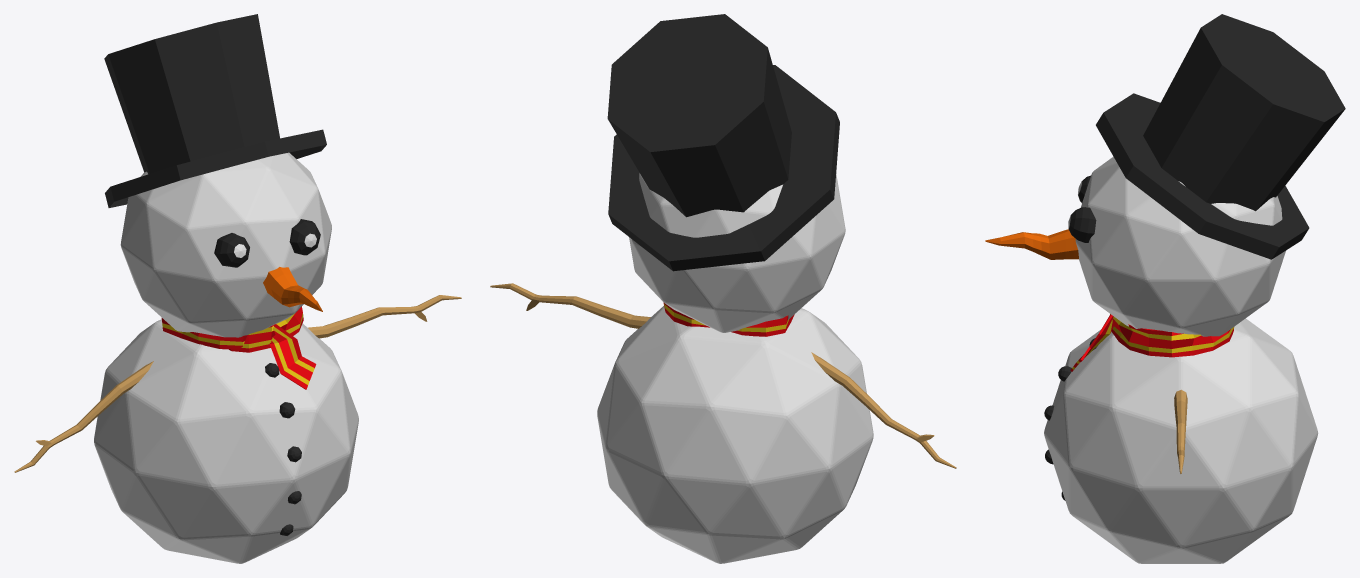
The model's file is snowman.gltf.
The picture shows the model from 3 angles, left to right: view 1: azimuth 30°, elevation 25°; view 2: azimuth 150°, elevation 25°; view 3: azimuth 270°, elevation 25°; orthographic projection. The views are drawn at different scales.
Parts seen in each view (by area): view 1: Icosphere.001, Icosphere, hat, muffler, Cylinder.003, Cylinder.002, Cylinder.004, eye, eyes, buttons; view 2: Icosphere.001, hat, Icosphere, Cylinder.003, Cylinder.002, muffler; view 3: Icosphere.001, hat, Icosphere, muffler, Cylinder.004, Cylinder.002, eyes.
Boxes of the visible parts, left/top/right/bottom form: Icosphere.001: left=94, top=319, right=358, bottom=563; Icosphere: left=120, top=152, right=331, bottom=337; hat: left=104, top=14, right=326, bottom=207; muffler: left=161, top=306, right=316, bottom=389; Cylinder.003: left=14, top=361, right=153, bottom=472; Cylinder.002: left=308, top=295, right=461, bottom=338; Cylinder.004: left=263, top=267, right=322, bottom=311; eye: left=214, top=233, right=249, bottom=267; eyes: left=289, top=219, right=320, bottom=255; buttons: left=265, top=363, right=301, bottom=535; Icosphere.001: left=597, top=306, right=873, bottom=563; hat: left=607, top=14, right=839, bottom=271; Icosphere: left=629, top=173, right=845, bottom=332; Cylinder.003: left=811, top=352, right=956, bottom=468; Cylinder.002: left=490, top=283, right=650, bottom=328; muffler: left=663, top=302, right=794, bottom=336; Icosphere.001: left=1044, top=318, right=1318, bottom=563; hat: left=1096, top=14, right=1345, bottom=259; Icosphere: left=1075, top=156, right=1285, bottom=336; muffler: left=1070, top=314, right=1234, bottom=371; Cylinder.004: left=985, top=229, right=1078, bottom=259; Cylinder.002: left=1174, top=389, right=1187, bottom=473; eyes: left=1068, top=207, right=1096, bottom=242.
Bounding box in the file's own units: 2.16 × 2.42 × 1.49.
